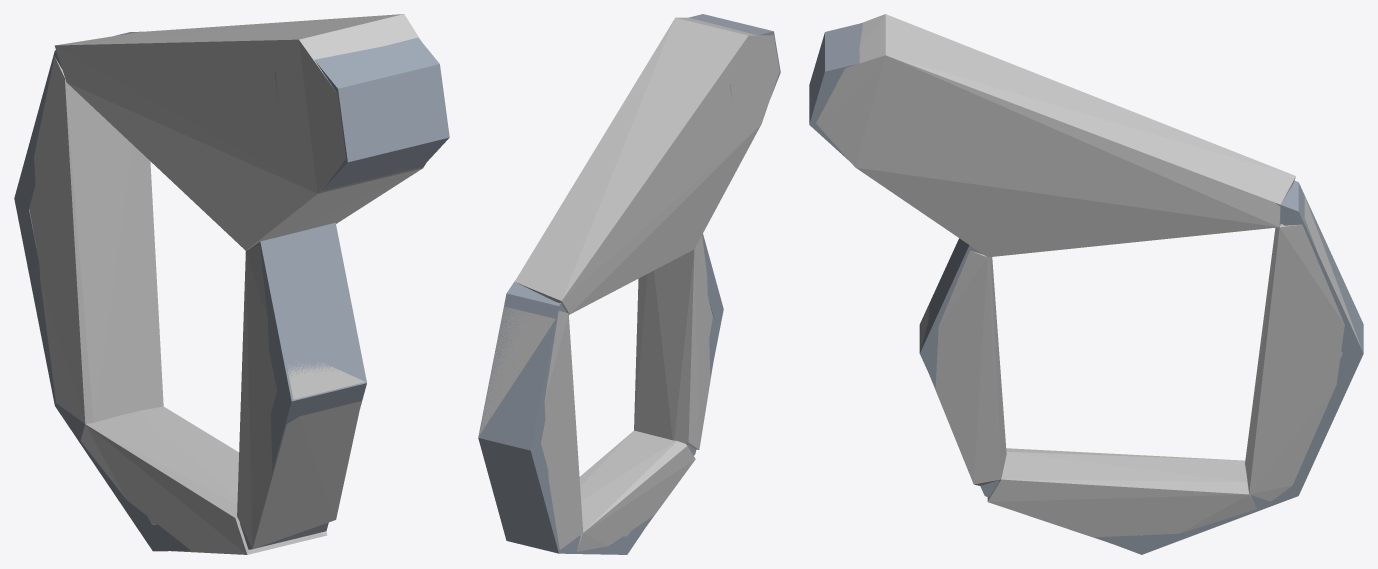
Rendered from SM_Prop_Viewing_Scope_01_Lens_01.fbx.
3 renders of one model, left to right at view 1: azimuth 30°, elevation 25°; view 2: azimuth 150°, elevation 25°; view 3: azimuth 270°, elevation 25°, orthographic. The views are drawn at different scales.
Parts seen in each view (by area): view 1: SM_Prop_Viewing_Scope_01_Lens_01_ConvexHulls, SM_Prop_Viewing_Scope_01_Lens_01; view 2: SM_Prop_Viewing_Scope_01_Lens_01_ConvexHulls, SM_Prop_Viewing_Scope_01_Lens_01; view 3: SM_Prop_Viewing_Scope_01_Lens_01_ConvexHulls, SM_Prop_Viewing_Scope_01_Lens_01.
Boxes of the visible parts, bbox=[...] form: SM_Prop_Viewing_Scope_01_Lens_01_ConvexHulls: bbox=[29, 14, 425, 554]; SM_Prop_Viewing_Scope_01_Lens_01: bbox=[14, 31, 449, 551]; SM_Prop_Viewing_Scope_01_Lens_01_ConvexHulls: bbox=[479, 17, 779, 551]; SM_Prop_Viewing_Scope_01_Lens_01: bbox=[478, 14, 780, 554]; SM_Prop_Viewing_Scope_01_Lens_01_ConvexHulls: bbox=[816, 14, 1362, 543]; SM_Prop_Viewing_Scope_01_Lens_01: bbox=[809, 23, 1363, 554].
Bounding box in the file's own units: 5.81 × 33.06 × 33.29.
2 materials, 1 textured.
